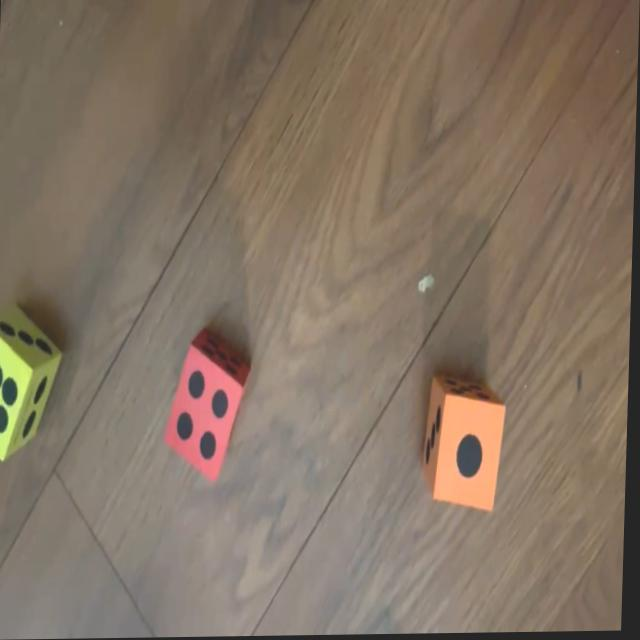red_block: (166, 326, 257, 483)
